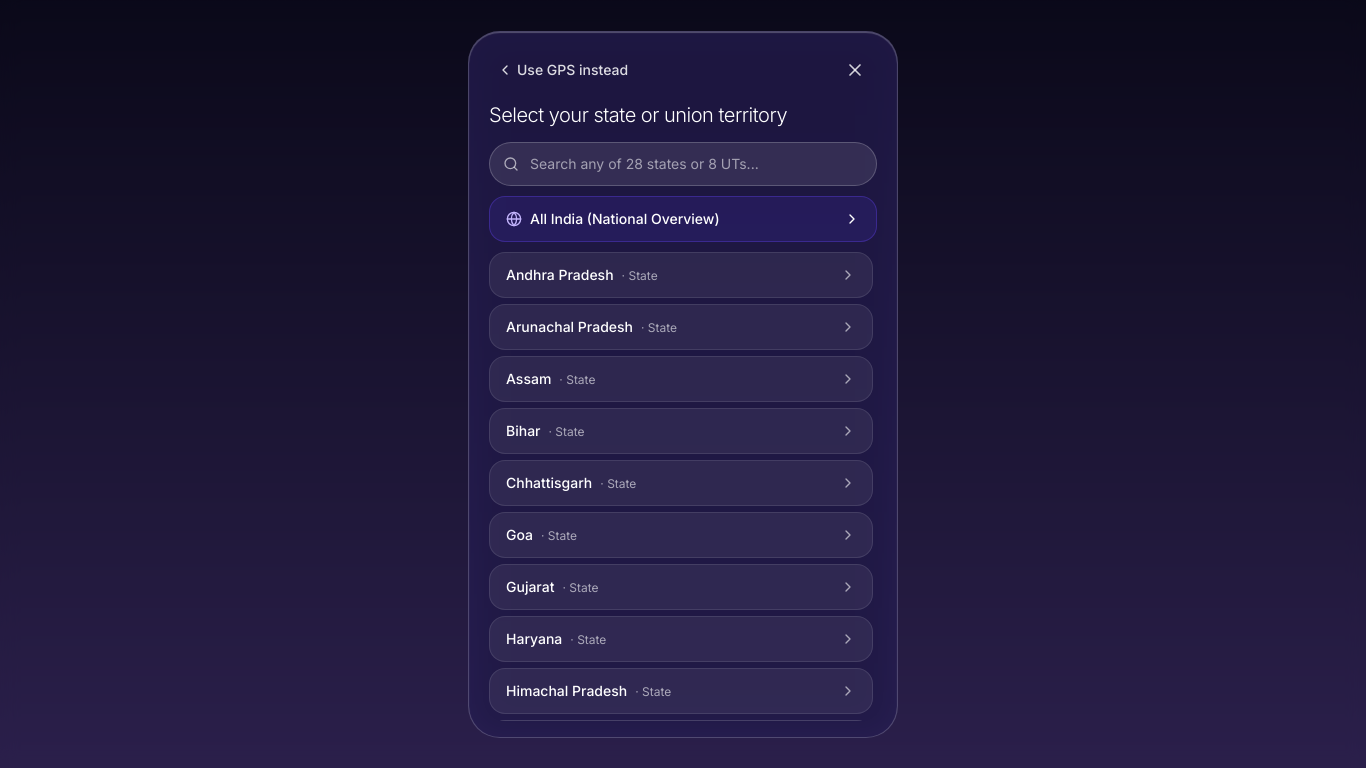
Test: Location Permission Outcomes, Manual Picker, and Deletion › clears search query when picking a state and offers Select Entire State at top of cities
Later steps or results of the test are not shown.
In the search field: (683, 164) [489,142,877,186], type "Karnataka"
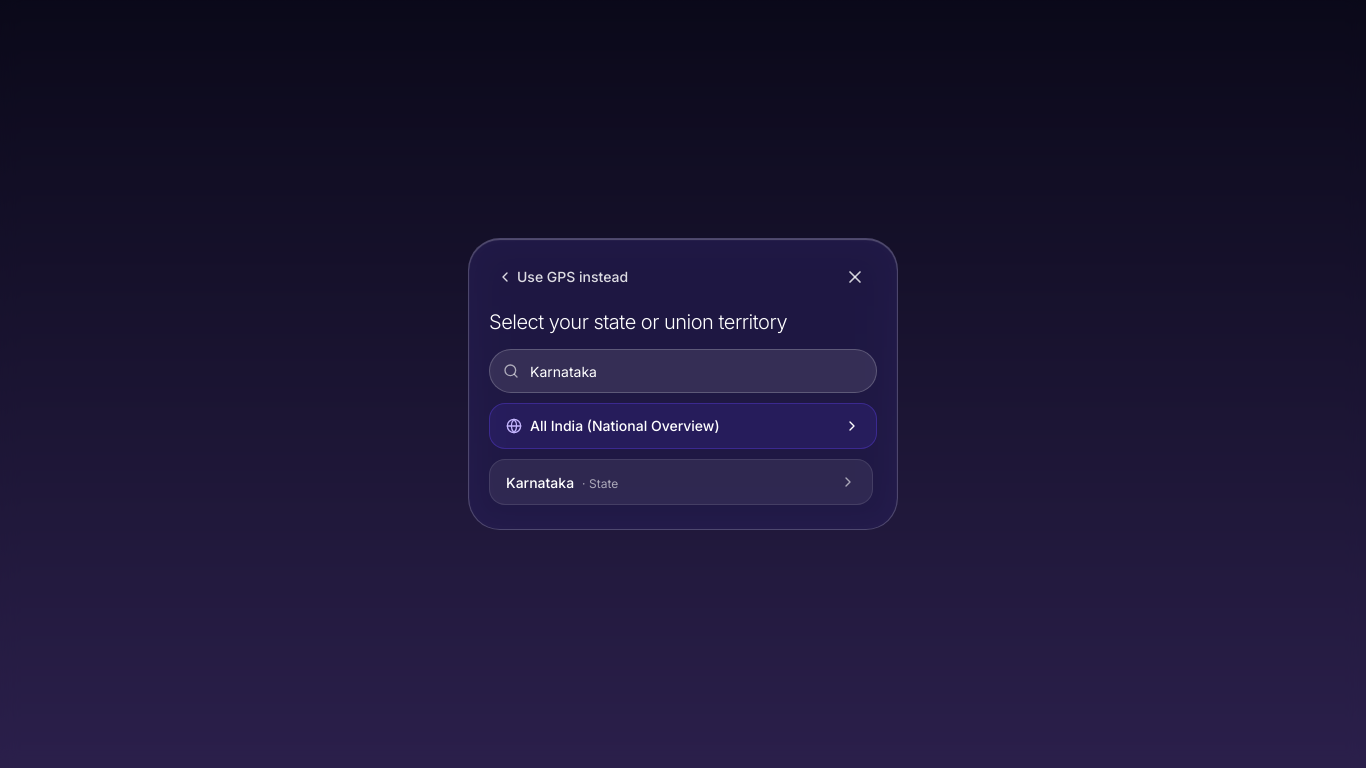
Click the button "Karnataka· State": (540, 482) [489,459,873,505]
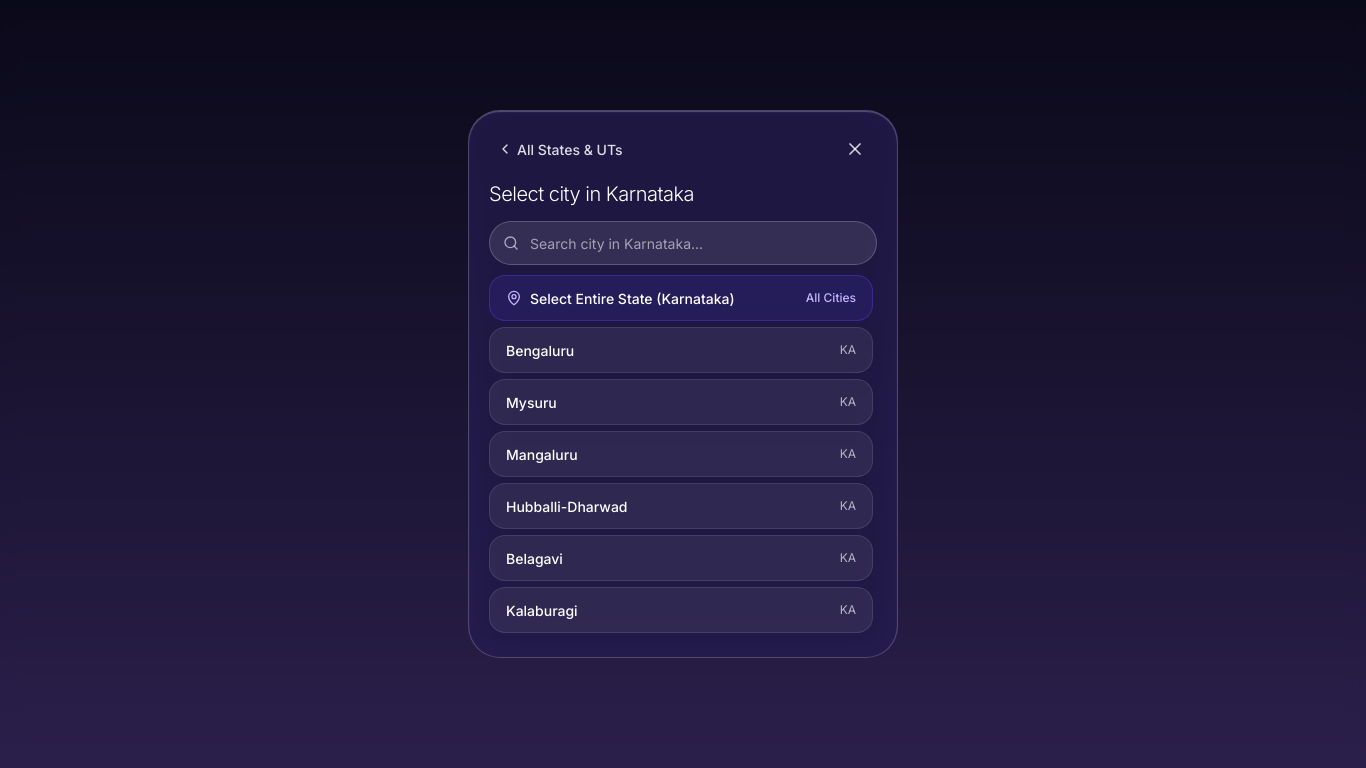
Expected: the search field is empty, [489,221,877,265]
Expected: the button "Select Entire State (Karnataka) All Cities" is shown, [489,275,873,321]
Expected: the button "Bengaluru KA" is shown, [489,327,873,373]
